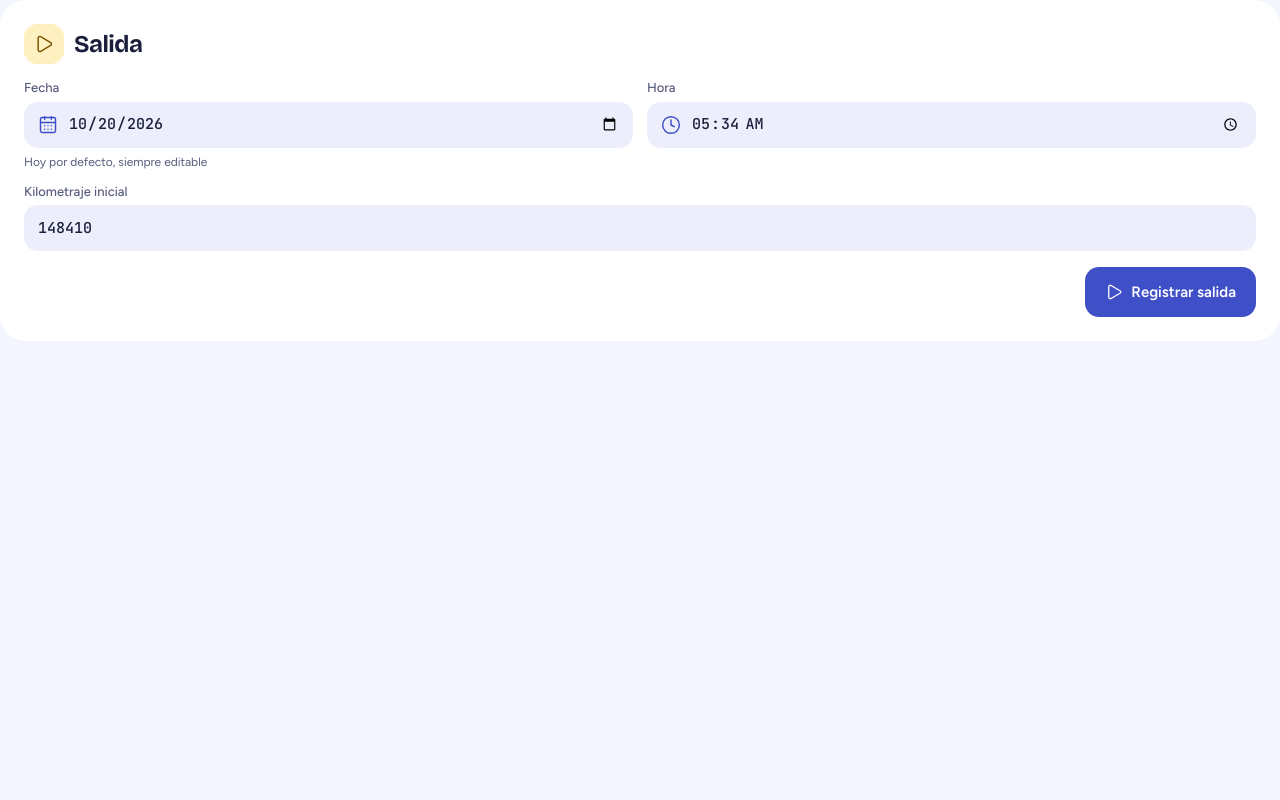
it: DepartureCard before the departure › shows the text of the service in the card and puts the focus on the first field
This screenshot has width=1280, height=800.
Step 1. Click the button "Registrar salida" → (1171, 292), box [1085,267,1256,317]
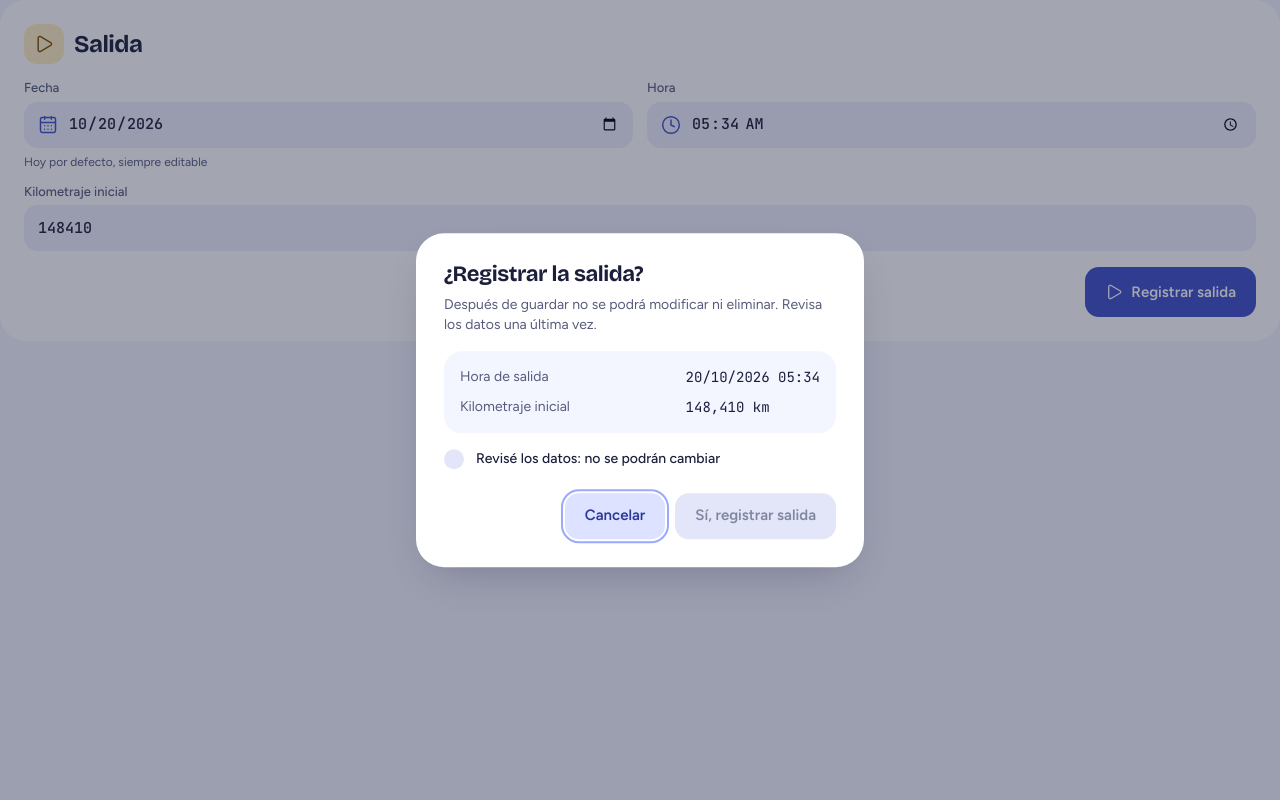
Step 2. Click the checkbox → (454, 459), box [444,449,464,469]
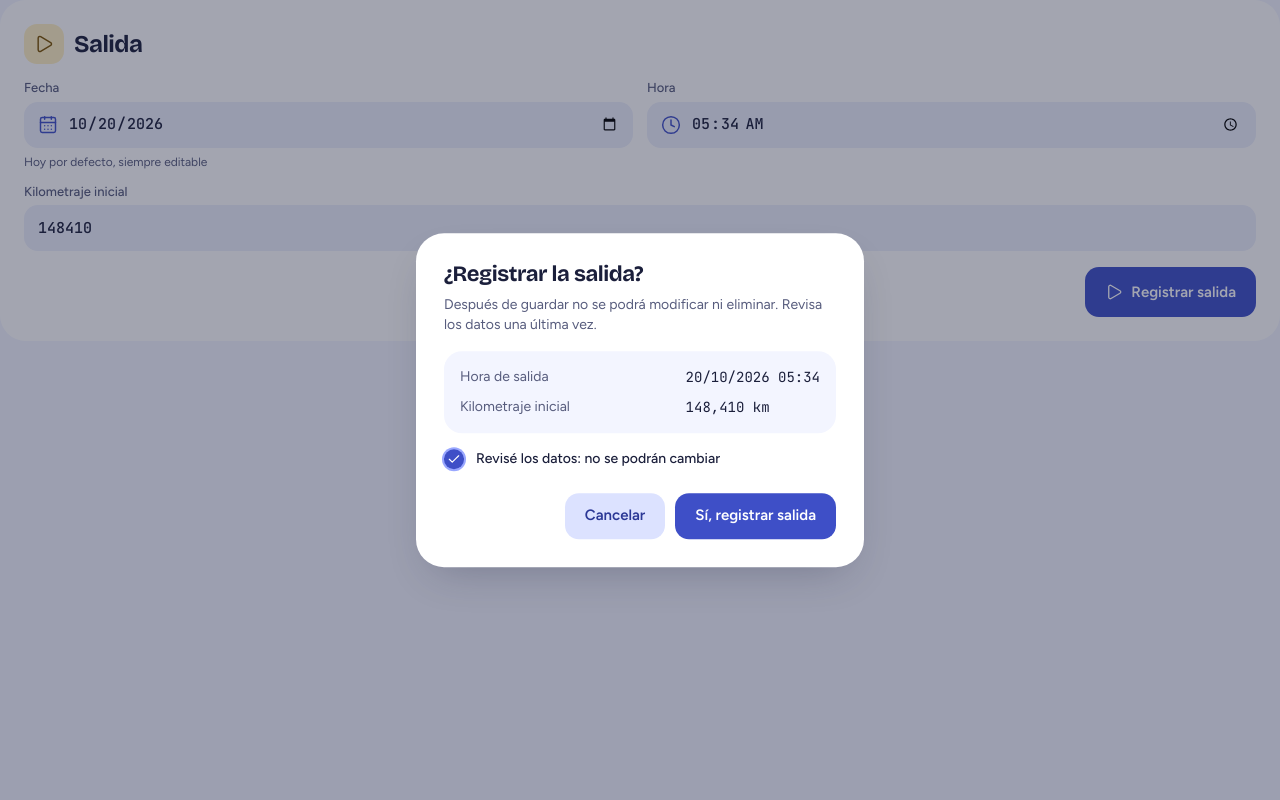
Step 3. Click the button "Sí, registrar salida" → (756, 516), box [675,493,836,539]
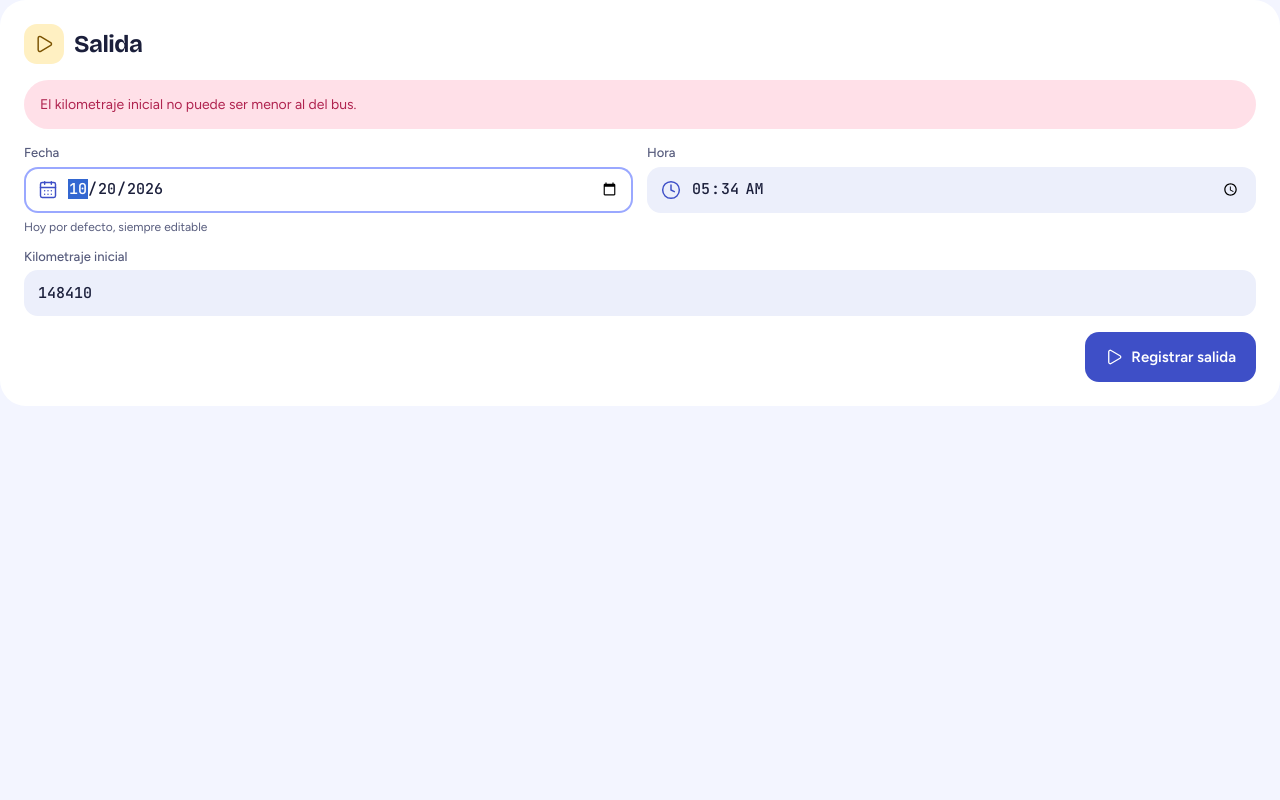
expect the message reads "El kilometraje inicial no puede ser menor al del bus.": met, box [40,96,356,113]
expect the dialog is gone: met
